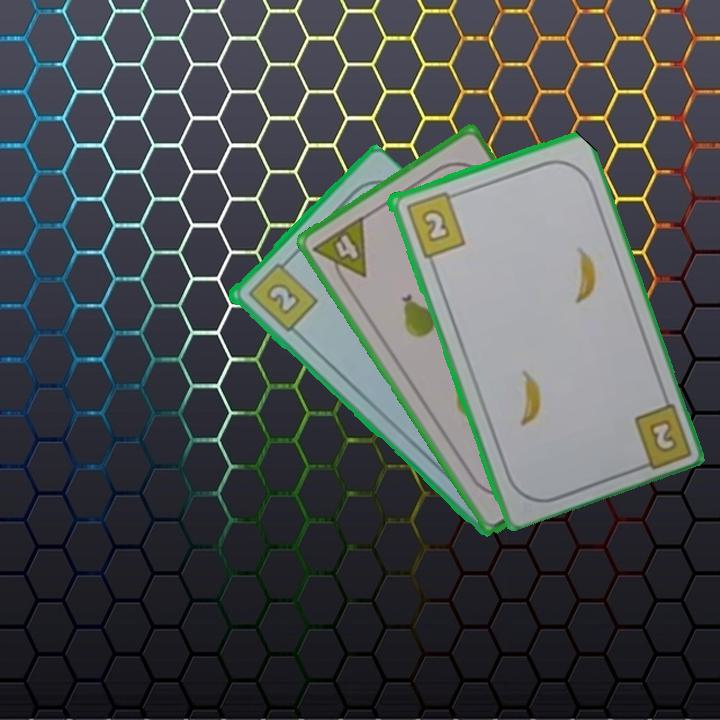2b: (244, 255, 320, 335), (402, 188, 468, 260), (645, 415, 676, 452)
4p: (309, 212, 370, 291)
